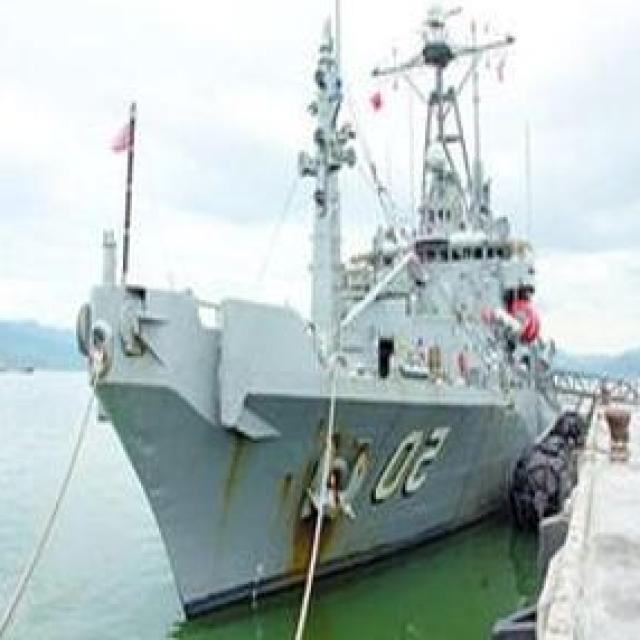navalvessels: (79, 5, 564, 610)
